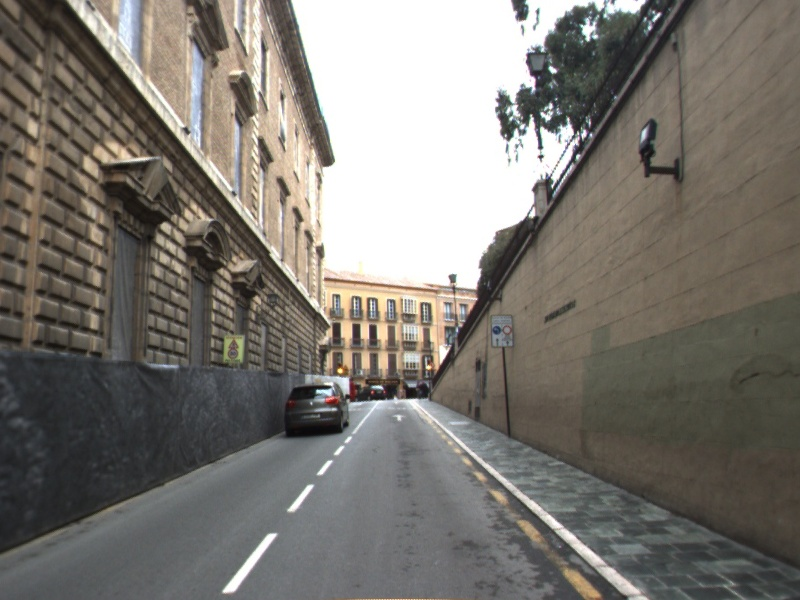STRAIGHT: (390, 412, 408, 423)
